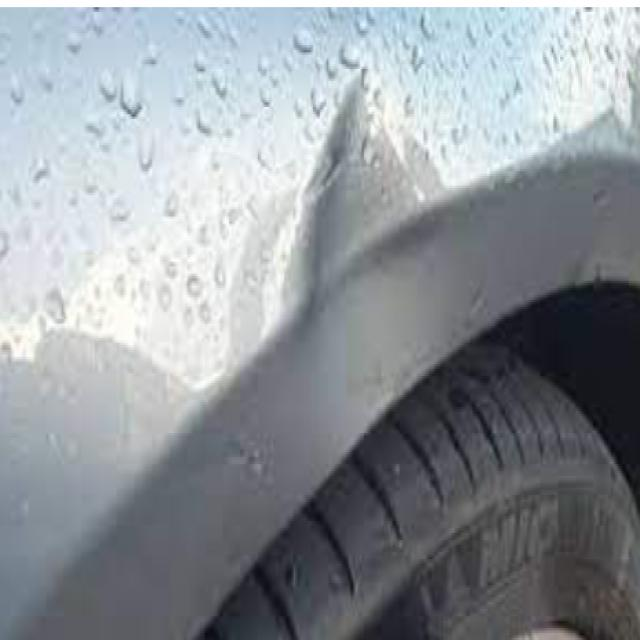dents: (292, 76, 440, 368)
